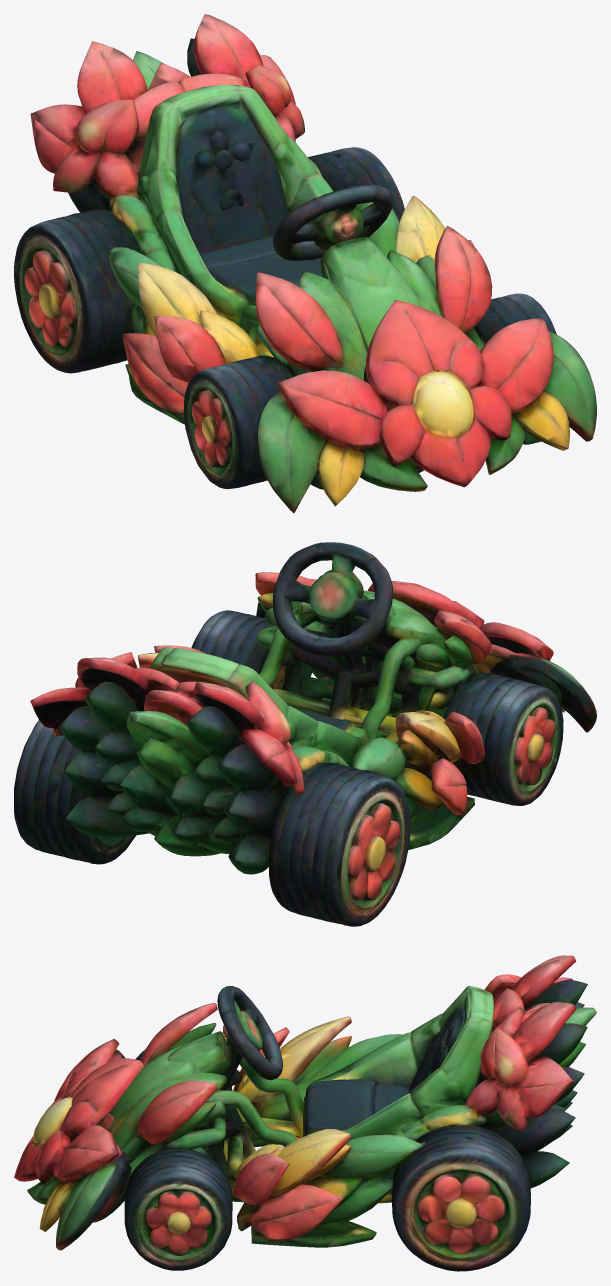
Rendered from bellossom.glb.
The picture shows the model from 3 angles, top to bottom: view 1: azimuth 30°, elevation 25°; view 2: azimuth 150°, elevation 25°; view 3: azimuth 270°, elevation 25°; orthographic projection. The views are drawn at different scales.
Visible parts, largest first — view 1: node_0; view 2: node_0; view 3: node_0.
Part boxes in pixels (bbox=[...]): node_0: bbox=[14, 14, 596, 513]; node_0: bbox=[14, 542, 596, 926]; node_0: bbox=[14, 955, 596, 1271].
Bounding box in the file's own units: 0.6544 × 0.483 × 1.14.
1 material, 1 textured.
